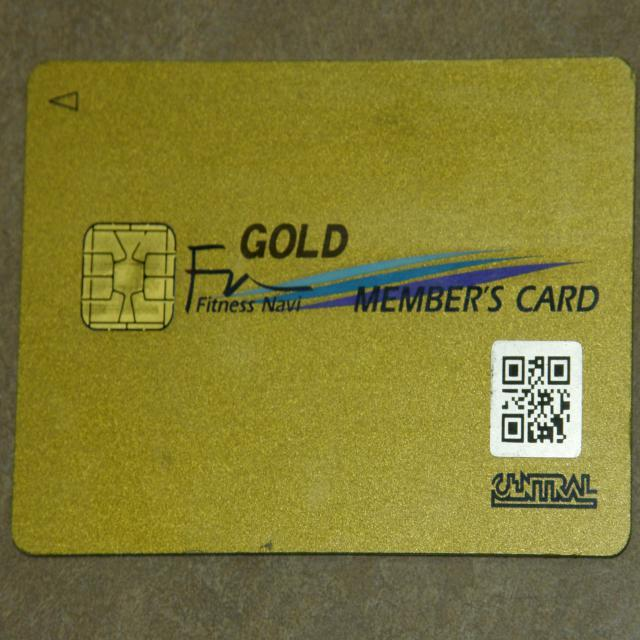qrcode: (503, 357, 571, 444)
